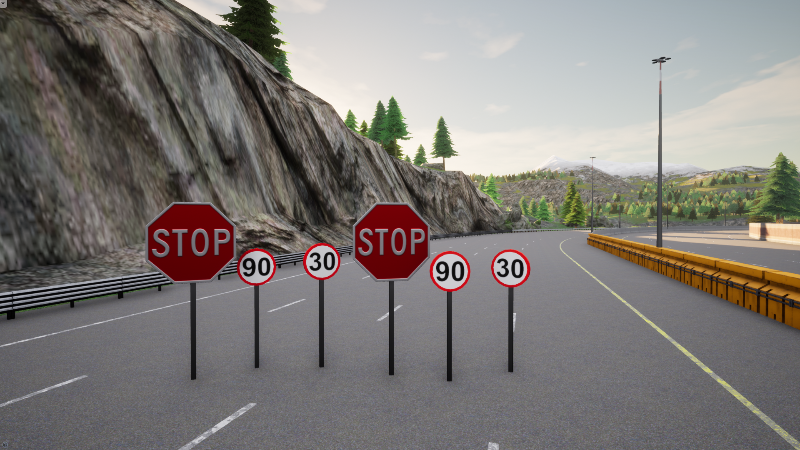fast: (429, 251, 470, 292), (237, 246, 276, 287)
slow: (302, 242, 341, 281), (490, 250, 531, 287)
stop: (143, 201, 236, 283), (352, 202, 430, 281)
